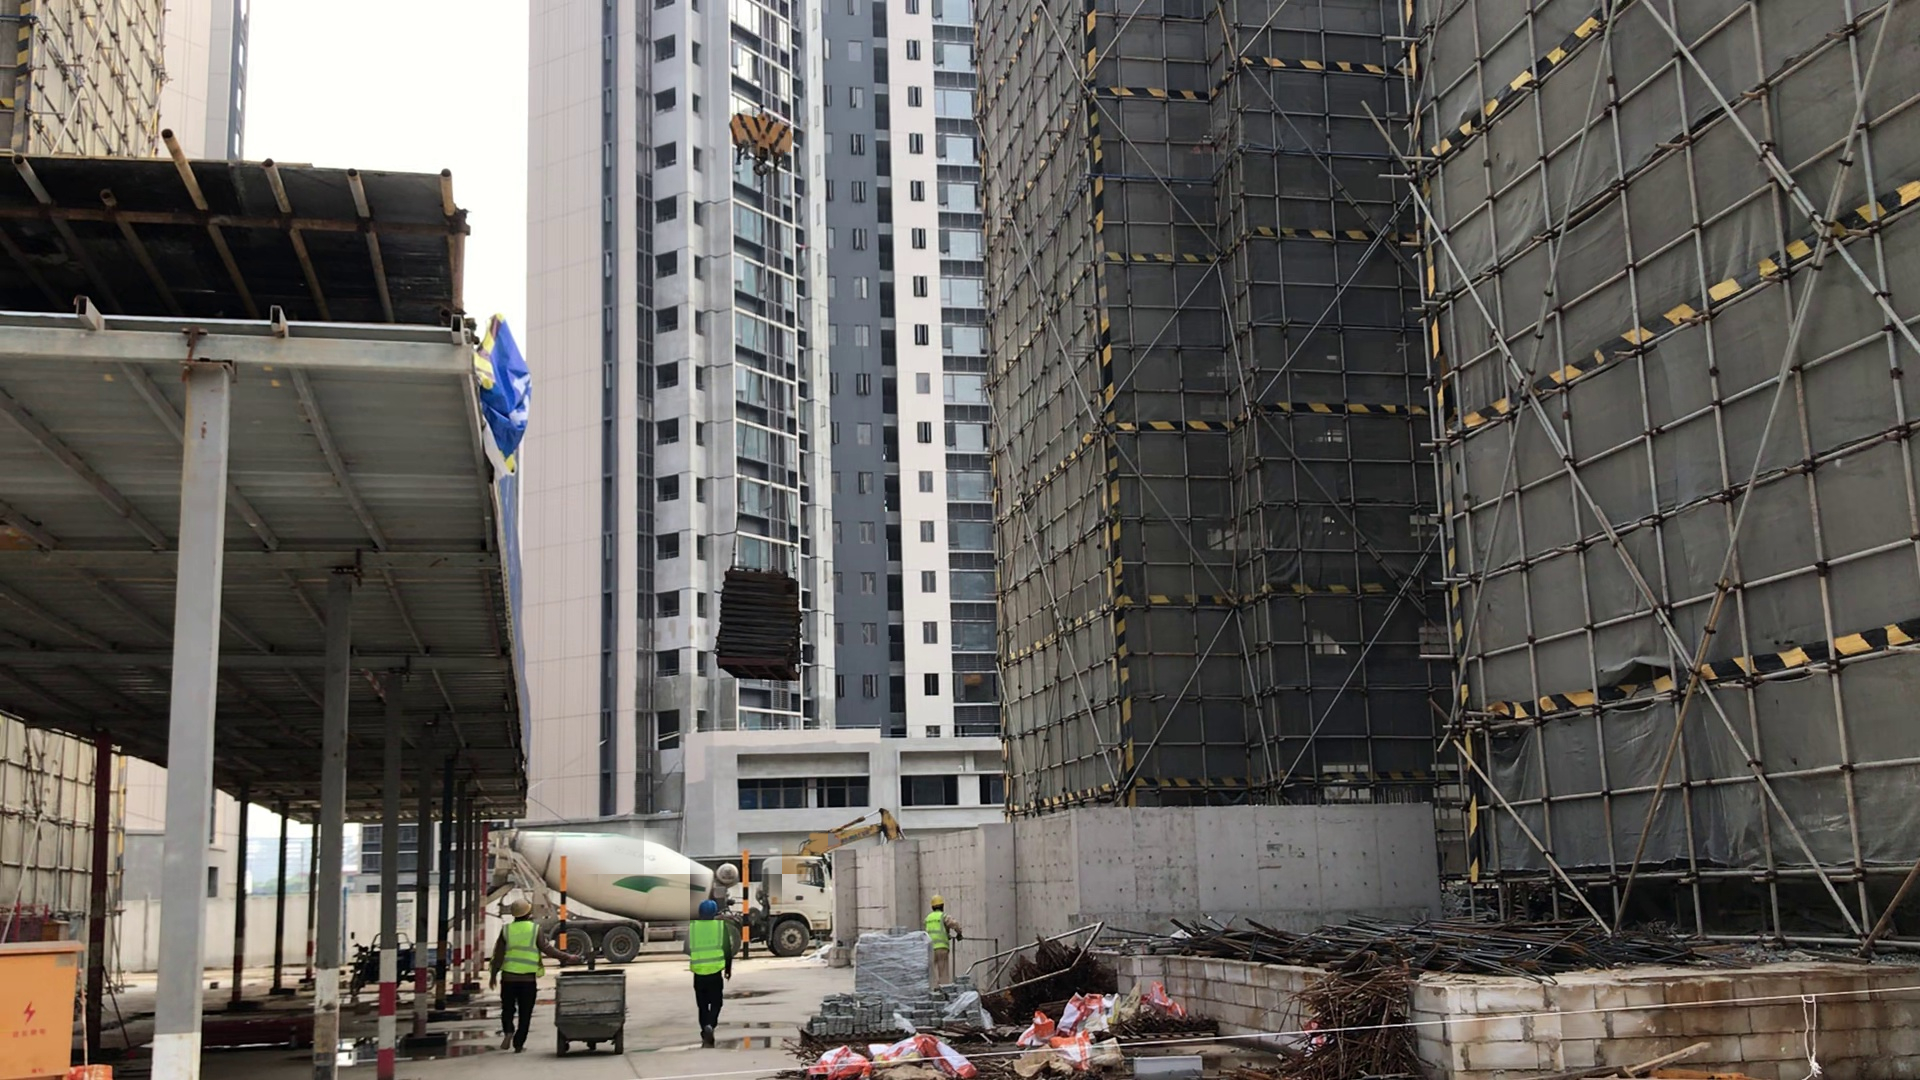brick: (800, 989, 996, 1045)
helmet: (694, 895, 721, 922), (512, 897, 539, 914), (926, 895, 948, 912)
hook: (721, 93, 806, 186)
person: (491, 895, 553, 1058), (682, 897, 741, 1048), (918, 893, 961, 999)
vest: (688, 915, 733, 980), (501, 920, 541, 980), (921, 913, 958, 957)
